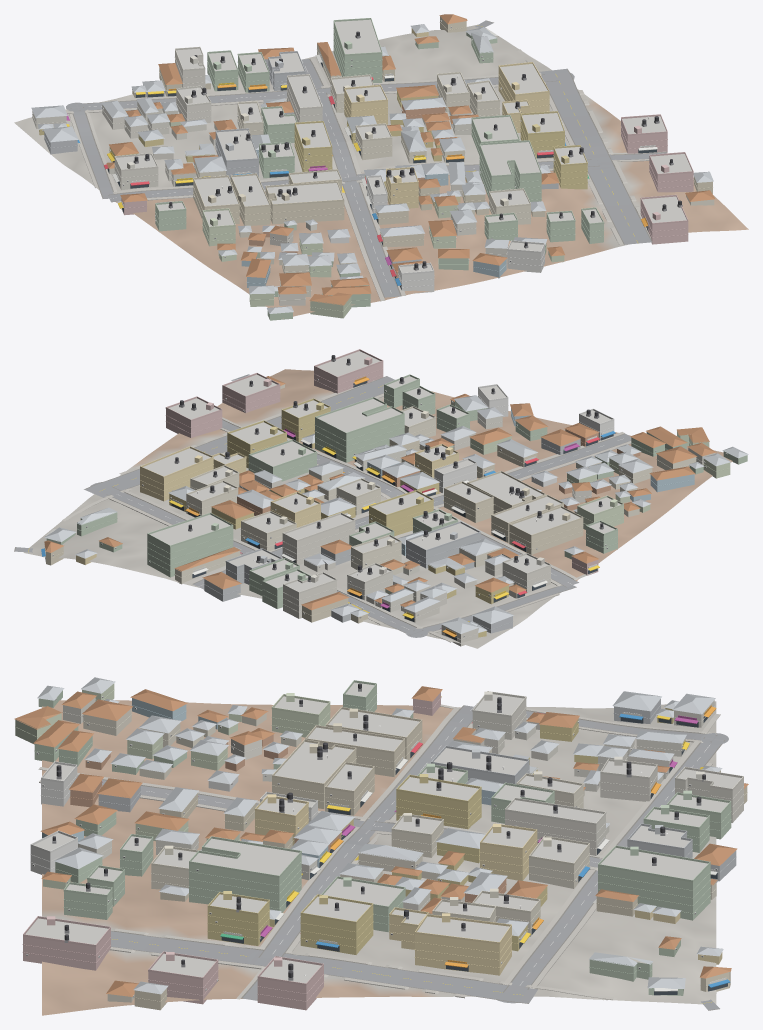
3 renders of one model, top to bottom at view 1: azimuth 30°, elevation 25°; view 2: azimuth 150°, elevation 25°; view 3: azimuth 270°, elevation 25°, orthographic. The views are drawn at different scales.
Visible parts, largest first — view 1: Buildings-col, Terrain-col, Details, Roads-col, Sidewalks-col; view 2: Buildings-col, Details, Terrain-col, Roads-col, Sidewalks-col; view 3: Buildings-col, Terrain-col, Details, Roads-col, Sidewalks-col.
Part boxes in pixels (x1,y1,x2,y2): Buildings-col: [31, 14, 714, 320]; Terrain-col: [14, 24, 748, 318]; Details: [32, 18, 712, 311]; Roads-col: [66, 20, 666, 297]; Sidewalks-col: [66, 49, 666, 301]; Buildings-col: [44, 351, 748, 646]; Details: [41, 349, 729, 640]; Terrain-col: [23, 369, 732, 648]; Roads-col: [14, 376, 631, 637]; Sidewalks-col: [42, 380, 631, 642]; Buildings-col: [14, 677, 748, 1010]; Terrain-col: [42, 700, 716, 1015]; Details: [15, 680, 747, 1001]; Roads-col: [77, 703, 728, 1010]; Sidewalks-col: [38, 704, 720, 1000].
Size of the model in its own units: 272 by 28.72 by 279.
